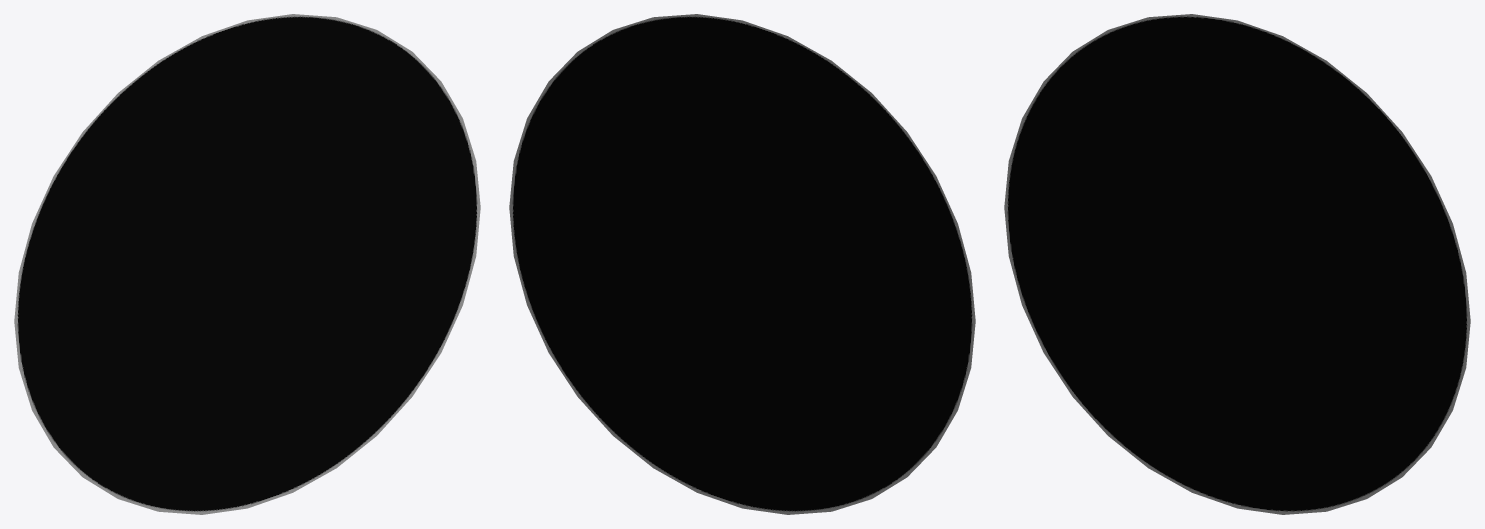
File: bulbMesh.obj
The picture shows the model from 3 angles, left to right: view 1: azimuth 30°, elevation 25°; view 2: azimuth 150°, elevation 25°; view 3: azimuth 330°, elevation 25°; orthographic projection.
Parts seen in each view (by area): view 1: Circle; view 2: Circle; view 3: Circle.
Boxes of the visible parts, left/top/right/bottom form: Circle: left=14, top=14, right=480, bottom=514; Circle: left=509, top=14, right=975, bottom=514; Circle: left=1004, top=14, right=1470, bottom=514.
Bounding box in the file's own units: 4 × 4 × 0.
1 material, 1 textured.
